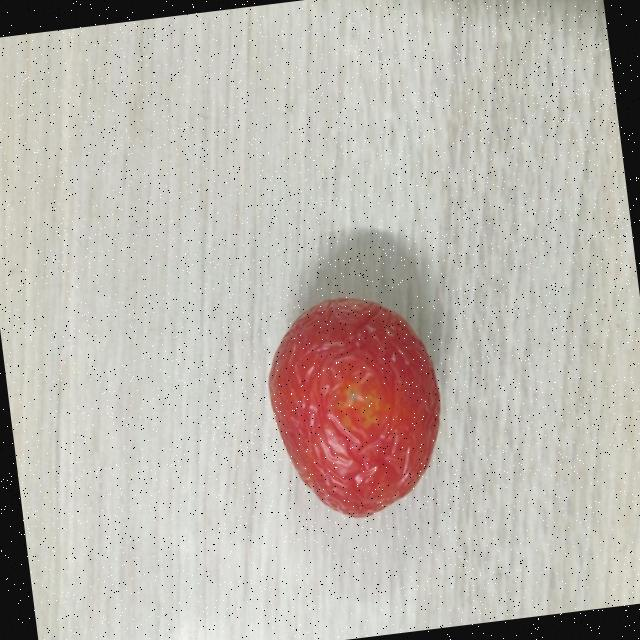overripe: (252, 284, 453, 532)
